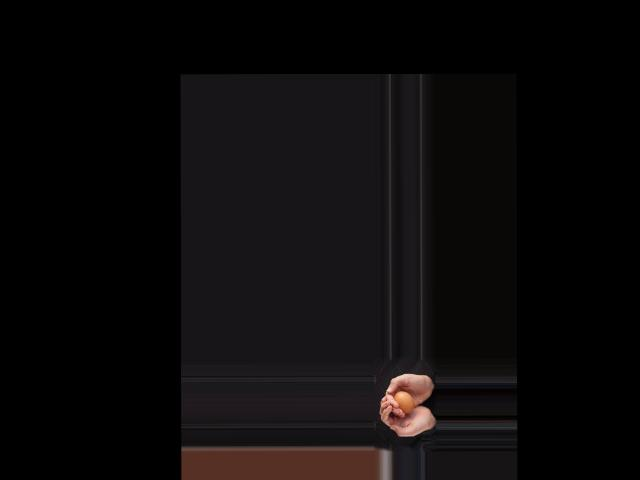egg: (394, 391, 414, 415)
